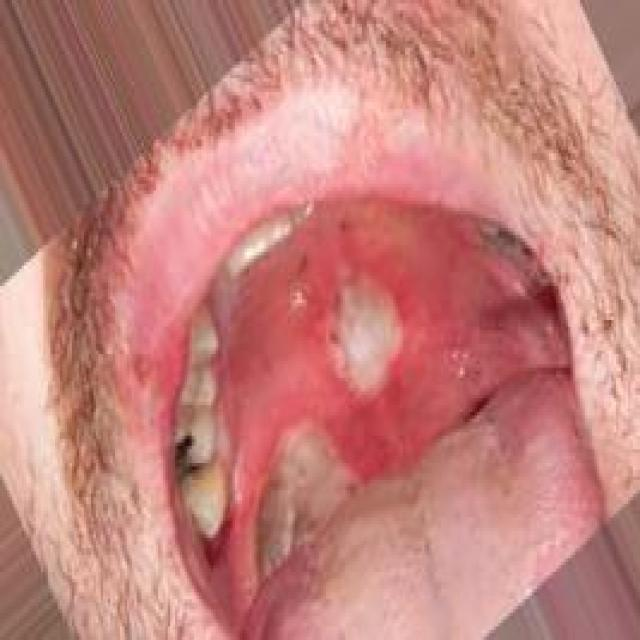caries: (166, 416, 226, 498)
